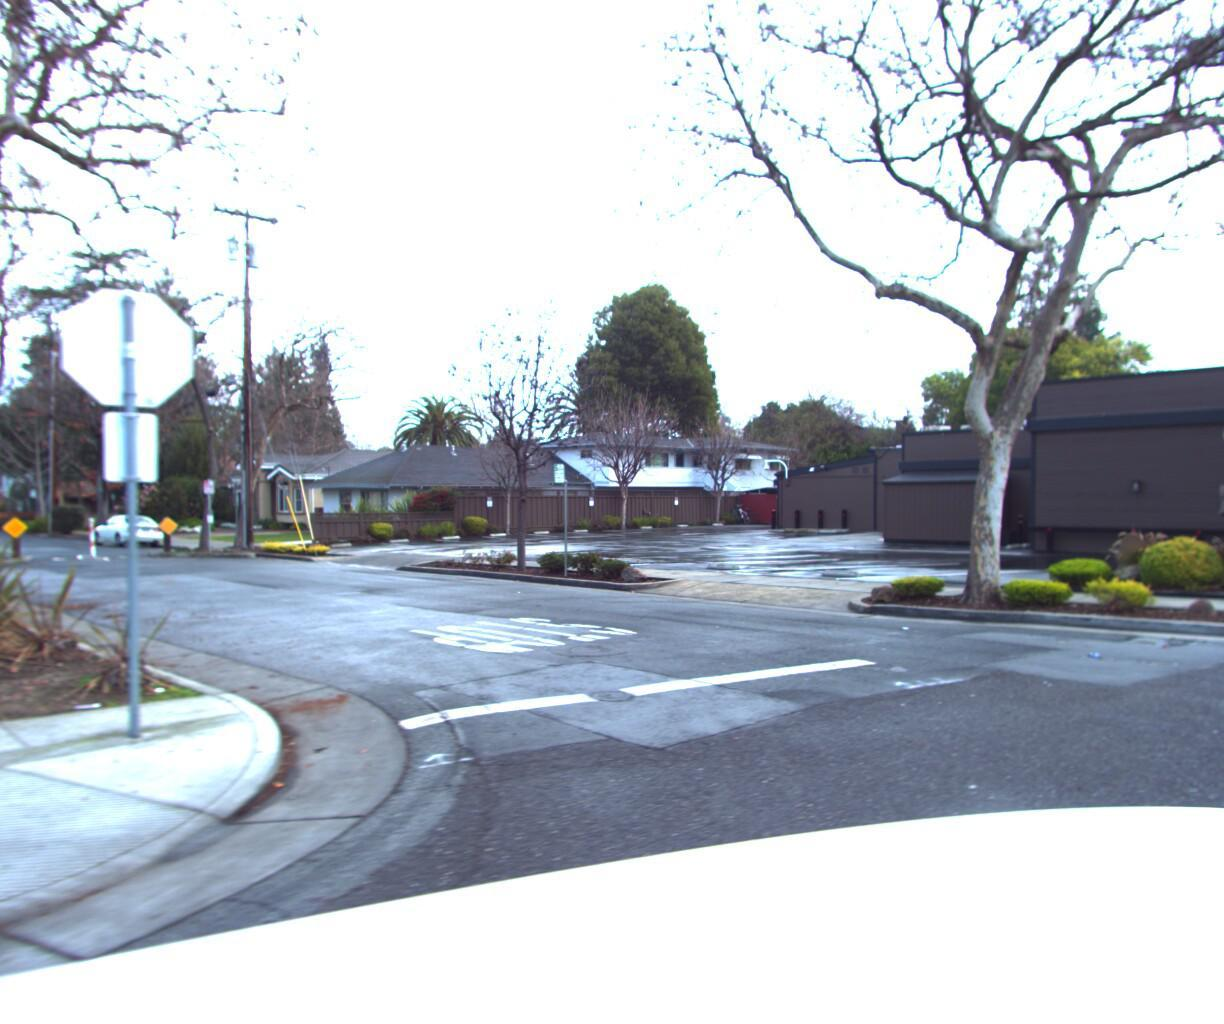car: (85, 514, 170, 551)
